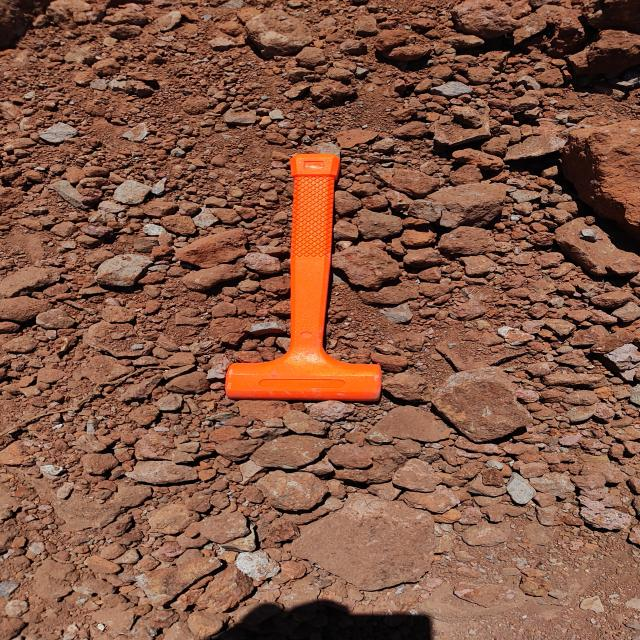Orange_hammer: (223, 152, 383, 402)
rock: (427, 364, 549, 450), (569, 109, 640, 248), (246, 464, 341, 514), (94, 250, 156, 290), (372, 40, 443, 73), (0, 299, 64, 323), (34, 118, 80, 145)
